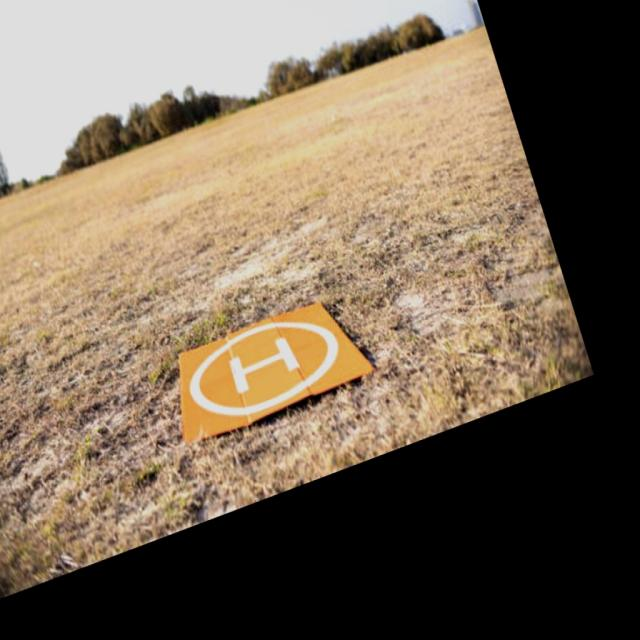helipad: (186, 317, 340, 417)
